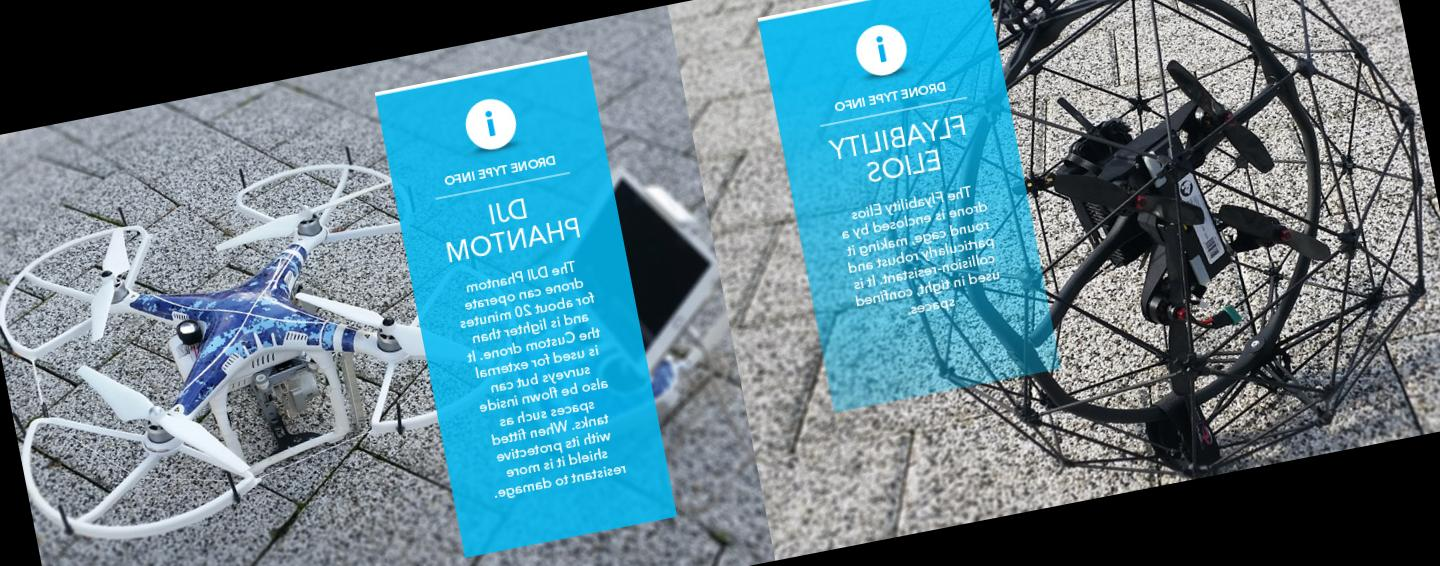drone: (0, 135, 531, 566)
